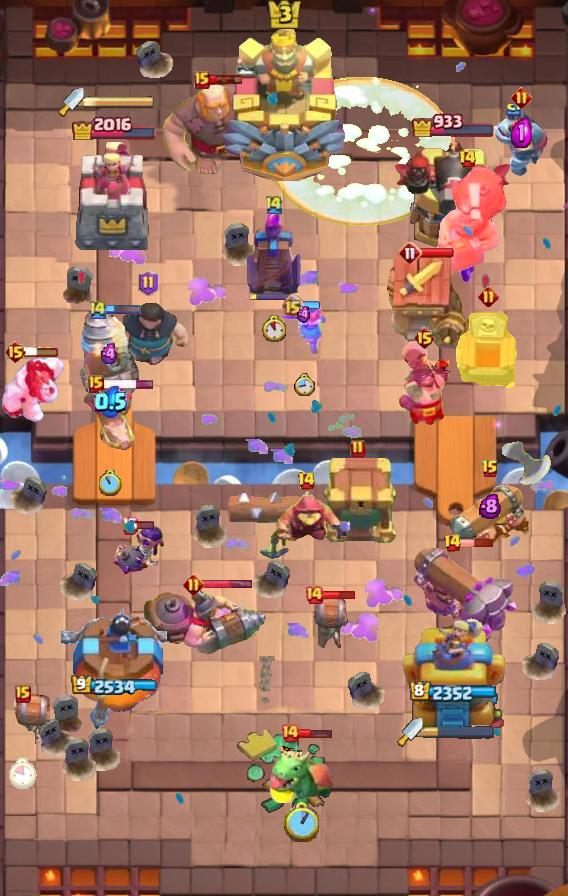balloon: (158, 80, 264, 178)
bar: (402, 615, 507, 731), (73, 140, 155, 256)
battle-healer: (450, 479, 530, 551)
bomb: (319, 457, 397, 545)
electro-spirit: (93, 386, 127, 419), (511, 118, 532, 148), (479, 493, 501, 519), (99, 343, 121, 365), (296, 305, 312, 322)
electro-wizard: (267, 733, 335, 803)
elixir: (283, 802, 319, 842), (9, 757, 37, 789), (262, 314, 286, 341), (99, 470, 122, 496), (293, 372, 314, 395)
elixir-golem-mid: (453, 311, 523, 397)
elixir-golem-small: (493, 104, 549, 176)
emote: (101, 378, 154, 389), (201, 579, 253, 590), (419, 247, 455, 259), (24, 346, 60, 358), (323, 589, 358, 601), (106, 304, 142, 315), (298, 728, 334, 739), (208, 75, 243, 86), (458, 538, 493, 548), (301, 301, 320, 312), (136, 520, 155, 530)
fireball: (258, 493, 354, 561)
fisherman: (255, 656, 278, 706)
freeze: (82, 381, 138, 451)
furnace: (410, 543, 520, 645)
goblin-ball: (111, 522, 167, 578)
hog-rider: (280, 302, 328, 356)
ice-spirit-evolution-symbol: (244, 210, 304, 302)
king-tower: (220, 21, 348, 181)
king-tower-bar: (84, 95, 156, 109), (423, 725, 495, 739)
knight: (300, 595, 350, 651), (0, 693, 50, 747)
magic-archer: (79, 308, 139, 400)
minion: (226, 487, 326, 529)
monk: (396, 339, 452, 427)
phoenix-big: (268, 77, 456, 227)
queen-tower: (61, 603, 167, 731)
rage: (0, 356, 66, 424)
royal-giant: (495, 439, 551, 495)
royal-hog: (105, 300, 191, 376)
selected: (70, 112, 157, 140), (412, 111, 497, 138), (409, 680, 497, 703), (70, 675, 157, 697)
sparky: (381, 254, 467, 352)
text: (398, 241, 422, 265), (4, 340, 28, 364), (281, 294, 304, 318), (413, 326, 436, 350), (137, 270, 158, 296), (477, 285, 499, 307), (511, 87, 532, 109), (183, 574, 204, 595), (88, 299, 108, 321), (264, 194, 284, 215), (304, 585, 324, 605), (280, 723, 300, 743), (459, 149, 478, 169), (296, 471, 315, 491), (443, 533, 462, 553), (481, 459, 499, 479), (121, 517, 138, 536), (350, 439, 366, 459), (194, 71, 210, 89), (88, 375, 104, 393), (15, 685, 31, 703)
tower-bar: (392, 138, 514, 256)
wizard: (424, 165, 510, 275), (141, 583, 267, 657)
